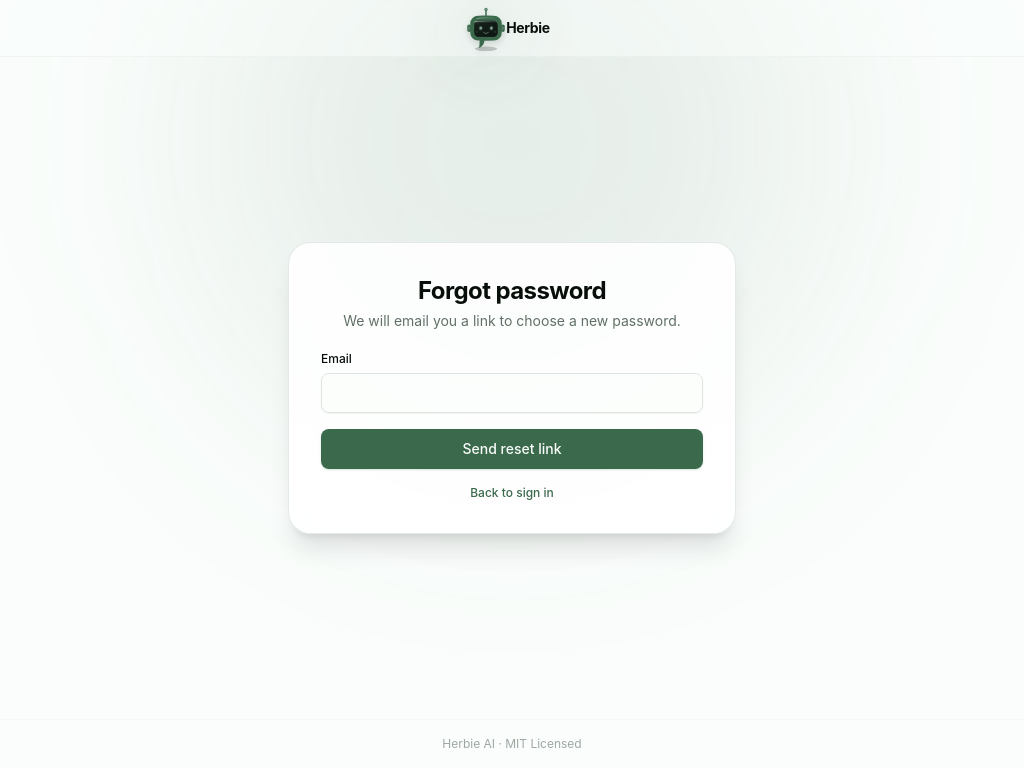
Test: auth pages › requests a password reset without revealing account existence
Type "a@b.co" into the field labelled "Email" at (512, 393), box top-left (321, 373), bottom-right (703, 413)
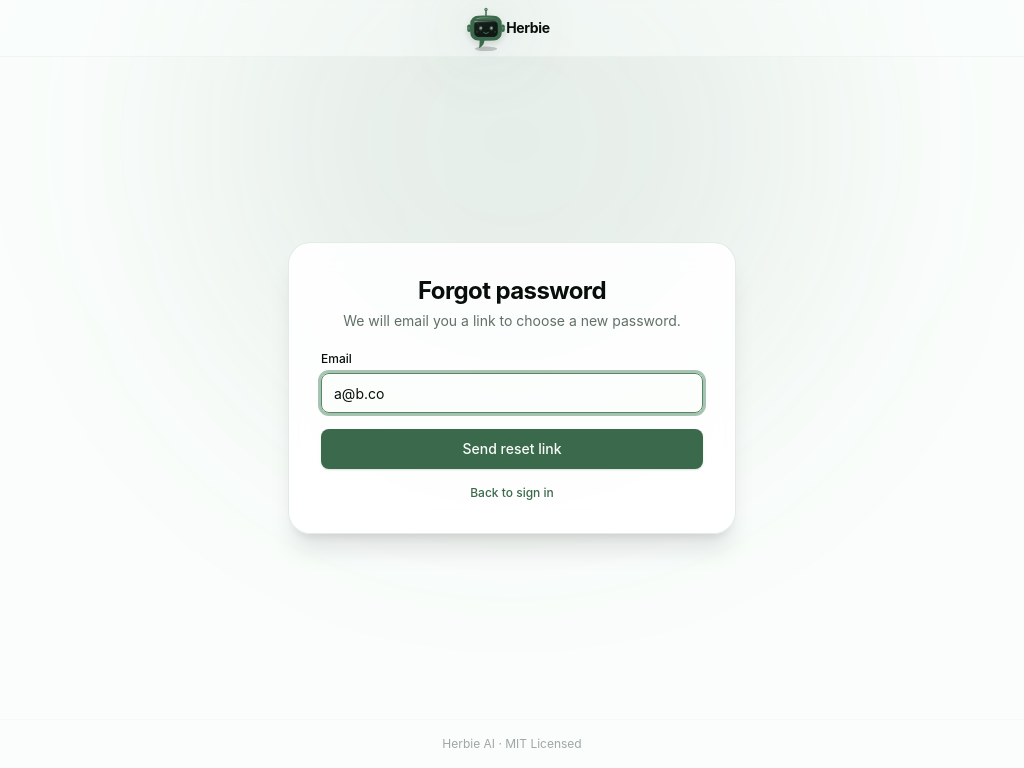
Click the button "Send reset link" at (512, 449), box top-left (321, 429), bottom-right (703, 469)
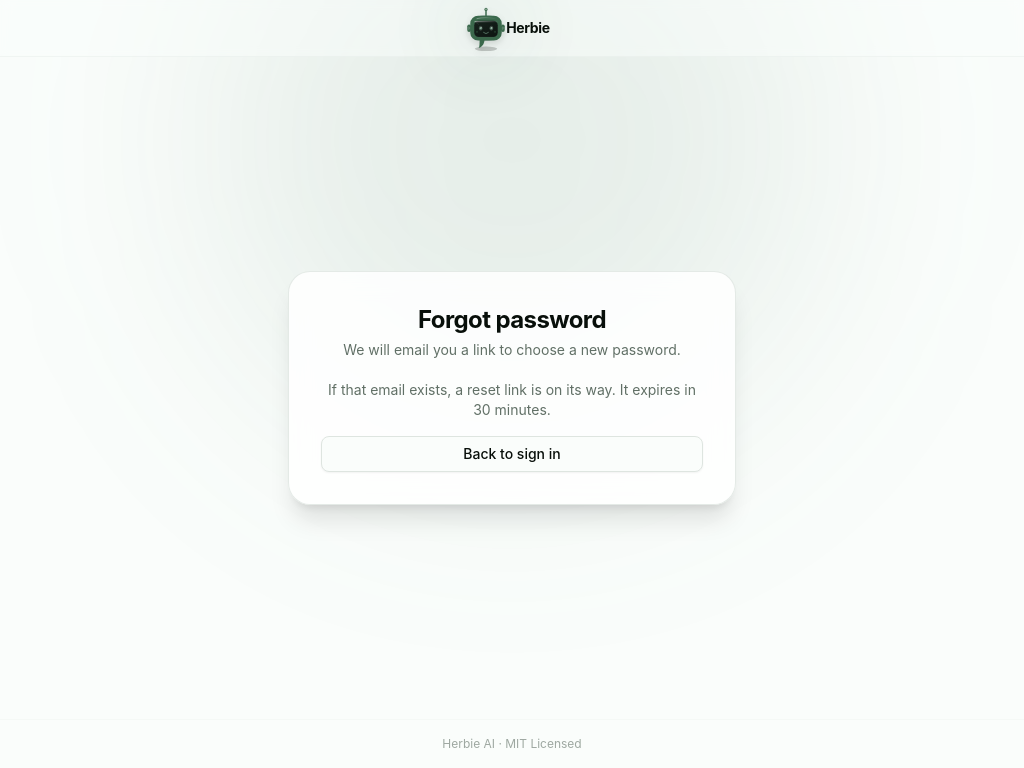
Expected: the text "If that email exists" is shown, top-left (328, 381), bottom-right (696, 418)
